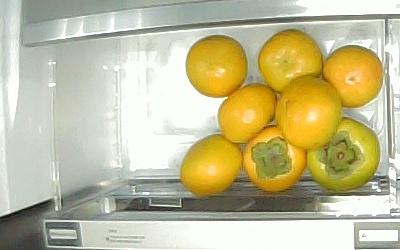persimmon: (307, 117, 380, 191), (276, 75, 341, 148), (258, 28, 323, 92), (244, 125, 306, 192), (180, 134, 243, 197), (185, 34, 247, 98), (323, 45, 382, 108), (217, 83, 277, 143)
